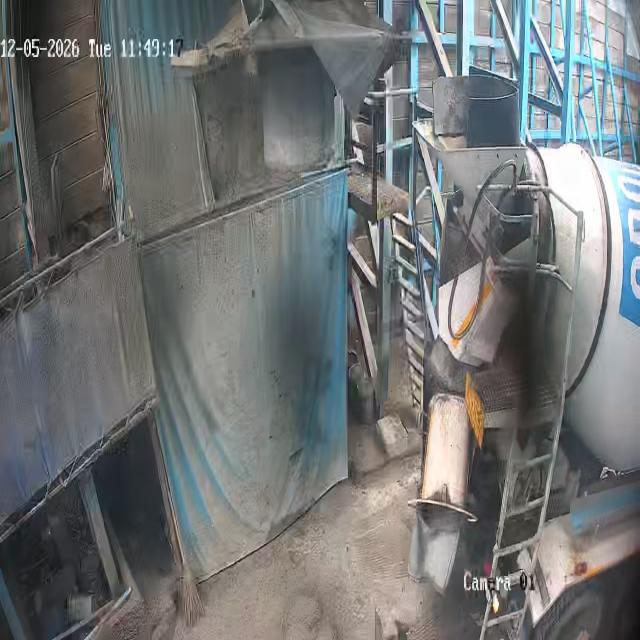cement_mixer_truck: (410, 117, 640, 640)
